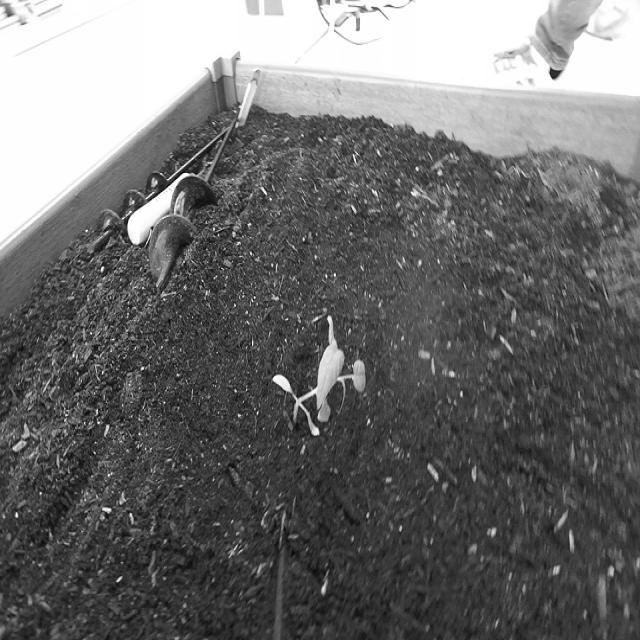Healthy: (272, 312, 368, 437)
